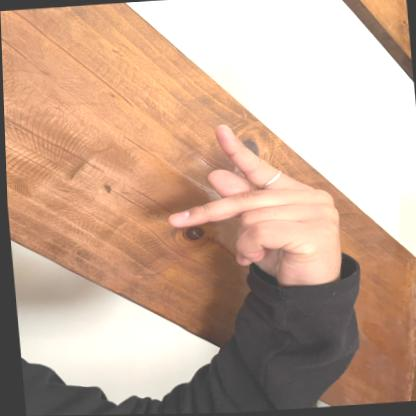K: (154, 113, 349, 291)
